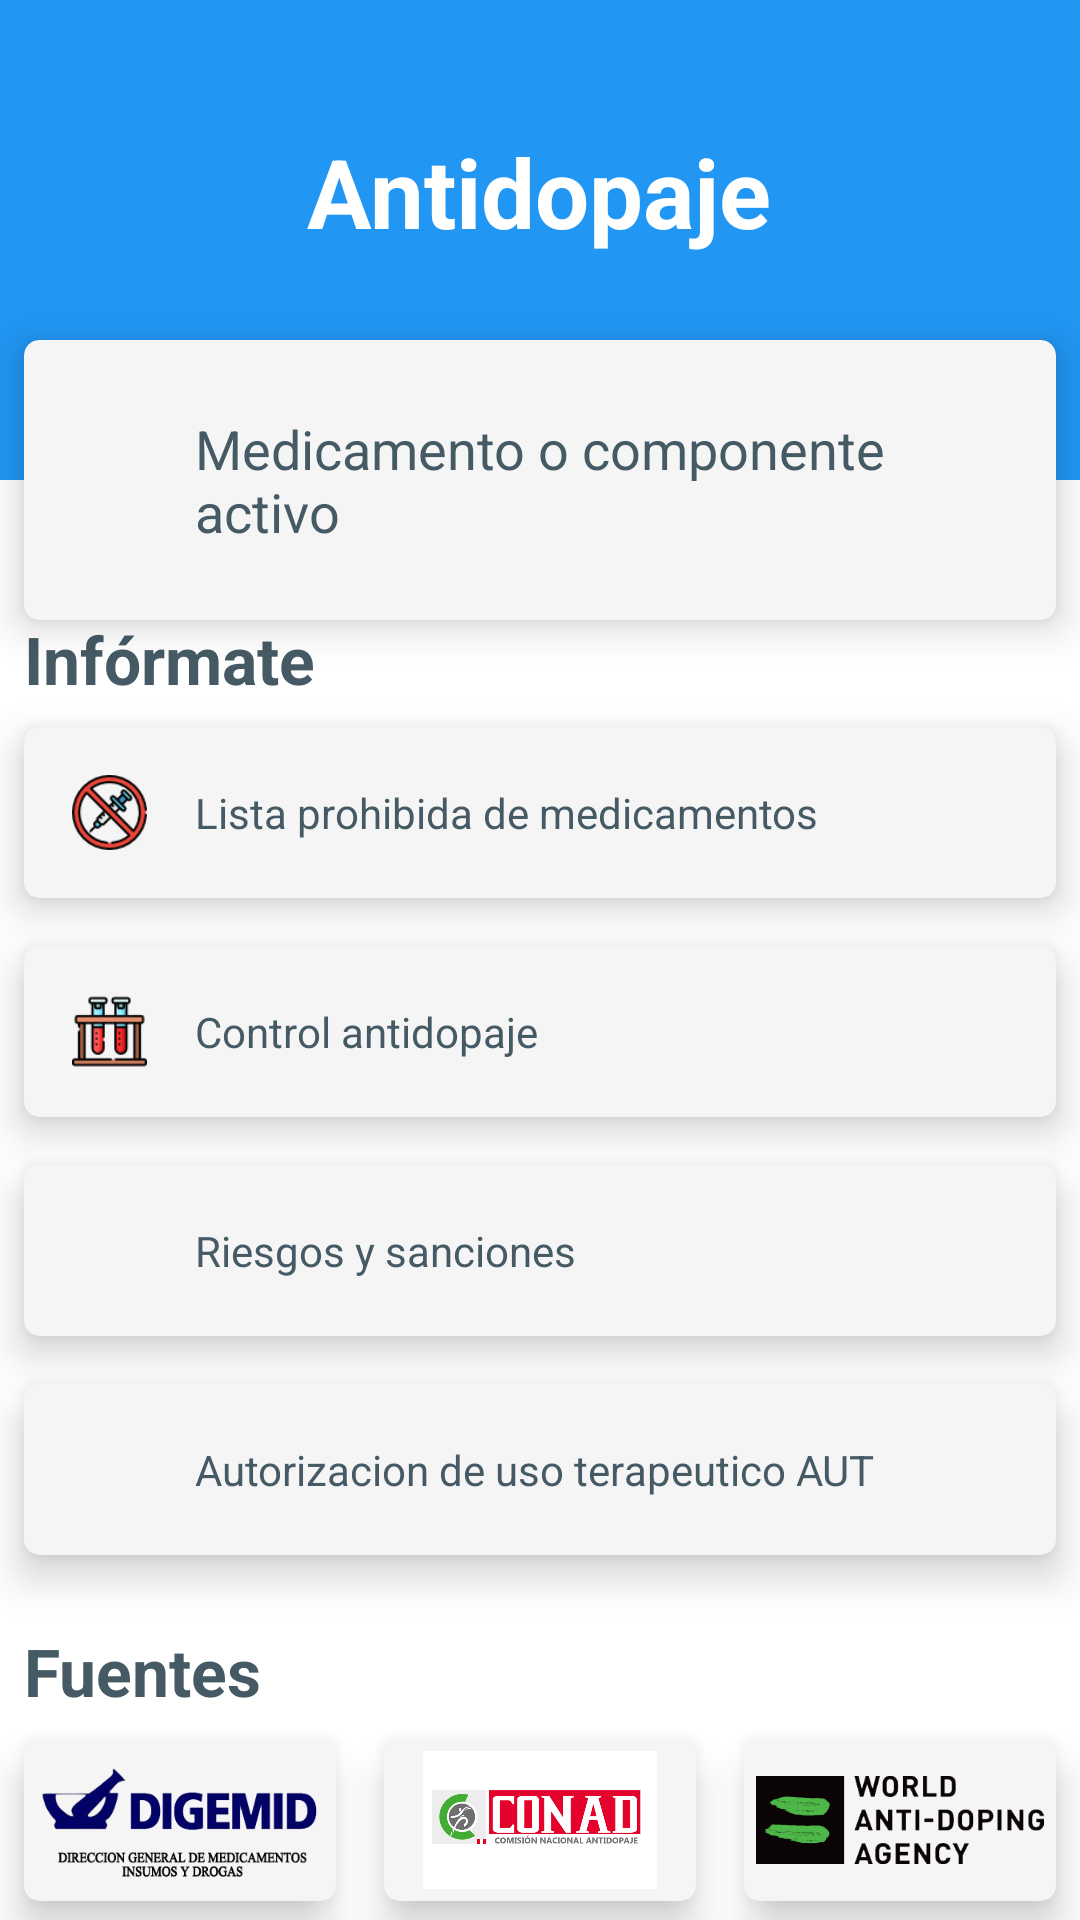

Named icons in this screenshot (1080px x 1920px) and their centers, point (x, y):
prohibidos: point (109, 812)
